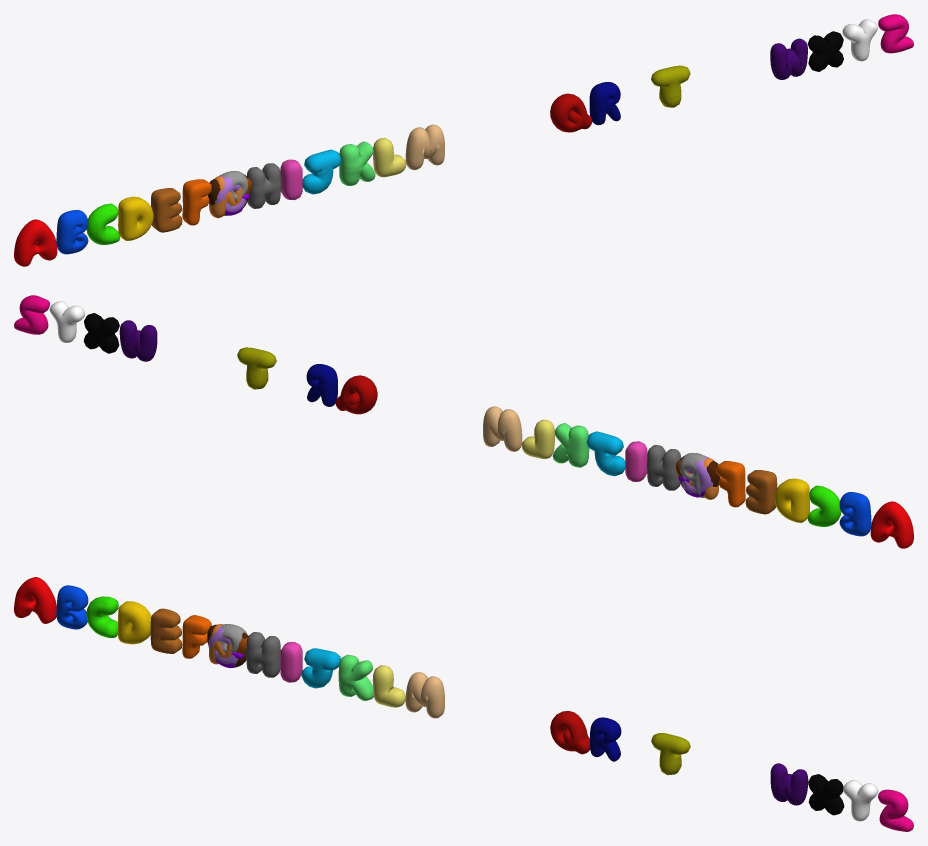
3 renders of one model, top to bottom at view 1: azimuth 30°, elevation 25°; view 2: azimuth 150°, elevation 25°; view 3: azimuth 330°, elevation 25°, orthographic.
Parts seen in each view (by area): view 1: A_0, M_12, D_5, K_10, H_4, Q_16, W_22, B_1, J_9, E_3, X_23, R_17 (+8 smaller); view 2: A_0, M_12, D_5, K_10, H_4, W_22, Q_16, B_1, J_9, E_3, X_23, R_17 (+8 smaller); view 3: A_0, M_12, H_4, K_10, Q_16, D_5, E_3, W_22, B_1, J_9, X_23, R_17 (+7 smaller).
Part boxes in pixels (x1,y1,x2,y2): A_0: (14,219,57,266); M_12: (405,124,444,170); D_5: (118,196,153,240); K_10: (339,141,375,185); H_4: (246,163,281,208); Q_16: (550,93,592,132); W_22: (770,38,807,79); B_1: (56,210,88,254); J_9: (302,149,341,194); E_3: (151,188,182,232); X_23: (808,31,843,71); R_17: (589,82,620,125); A_0: (870,501,913,548); M_12: (483,406,522,451); D_5: (774,478,809,522); K_10: (552,423,589,467); H_4: (646,445,681,490); W_22: (119,320,157,361); Q_16: (335,375,377,414); B_1: (839,492,871,536); J_9: (586,431,625,476); E_3: (745,470,777,514); X_23: (83,313,119,353); R_17: (306,364,337,406); A_0: (14,577,56,623); M_12: (405,672,444,718); H_4: (246,632,280,677); K_10: (338,654,373,700); Q_16: (550,711,590,754); D_5: (118,601,151,644); E_3: (150,608,182,653); W_22: (770,763,808,805); B_1: (56,585,88,629); J_9: (301,648,340,688); X_23: (808,774,844,815); R_17: (590,717,621,761).
Bounding box in the file's own units: 23.11 × 1.03 × 0.5393.
